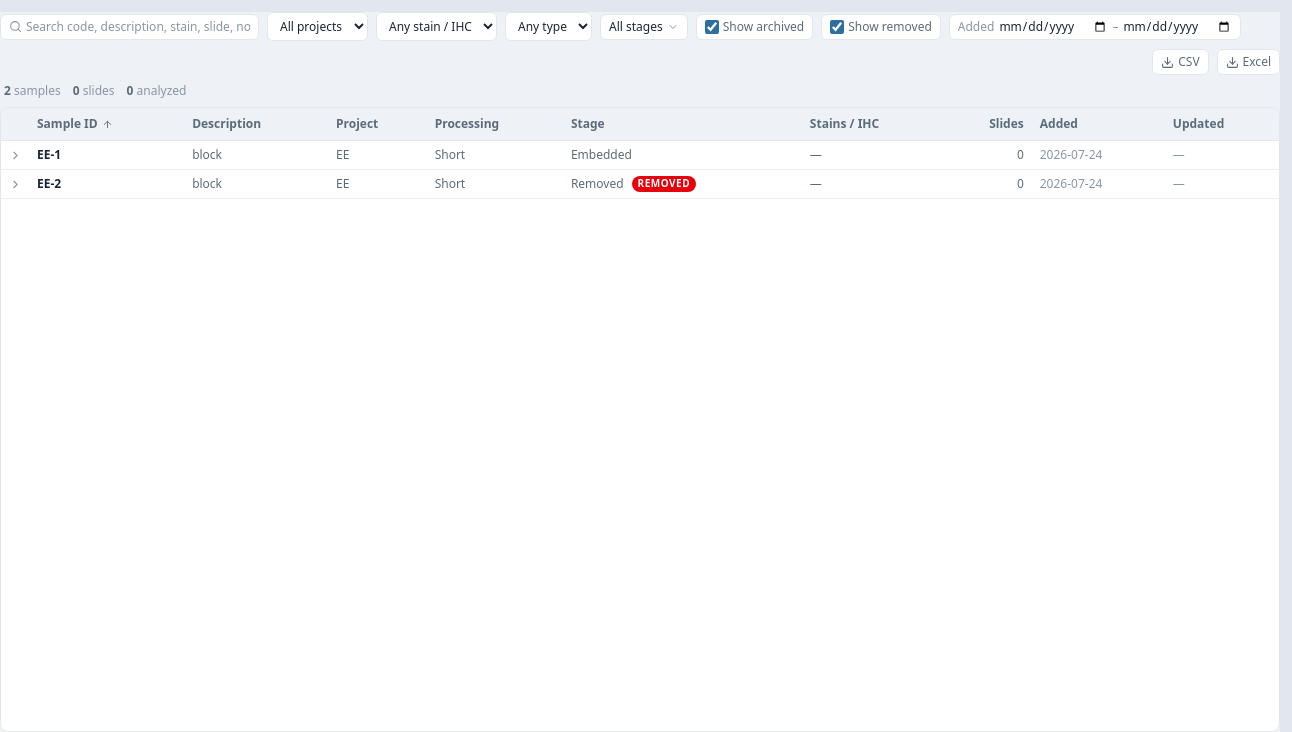
Test: LogsView — removing a sample › lists a removed sample under Show removed and hides it without
Expected: the text "EE-2" is shown, [37,176,61,192]
Step 1. Click the checkbox labelled "Show removed" → (837, 26), box [830,20,844,34]
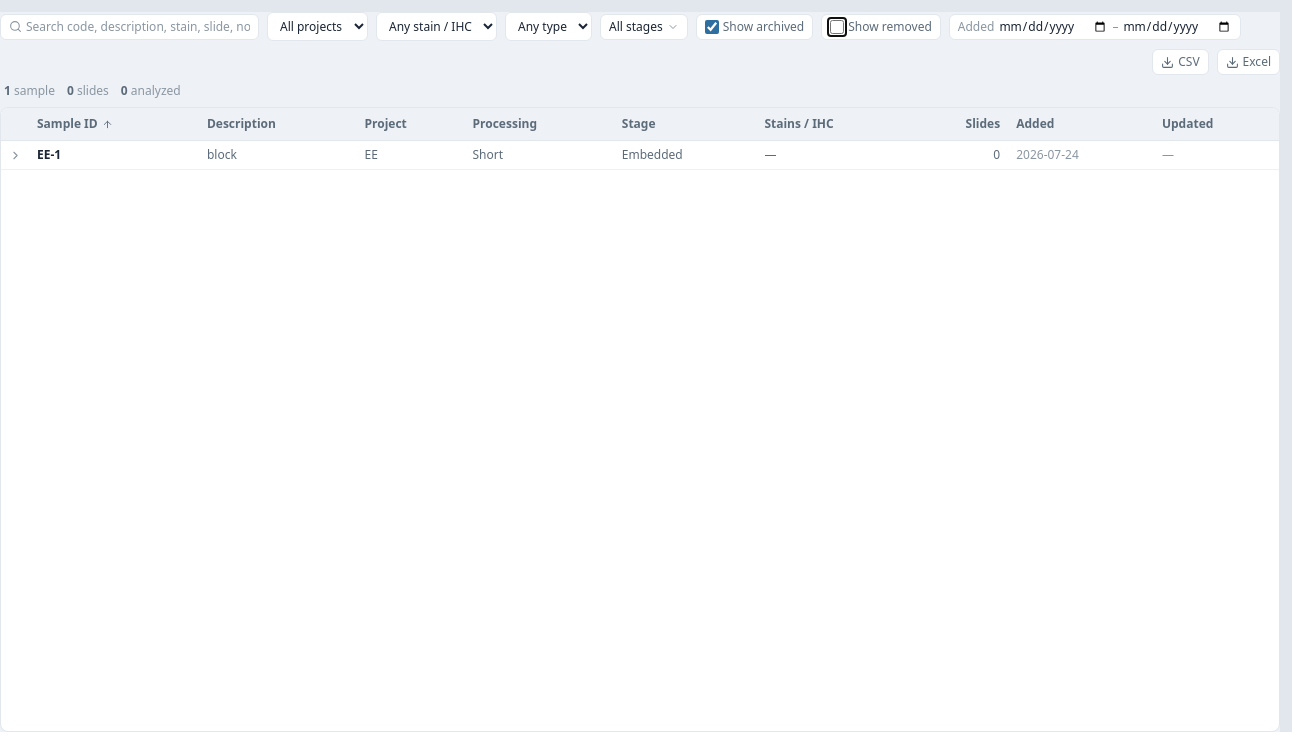
Expected: the text "EE-1" is shown, [37,147,61,163]
Expected: the text "EE-2" is gone
Step 2. Click the checkbox labelled "Show removed" → (837, 26), box [830,20,844,34]
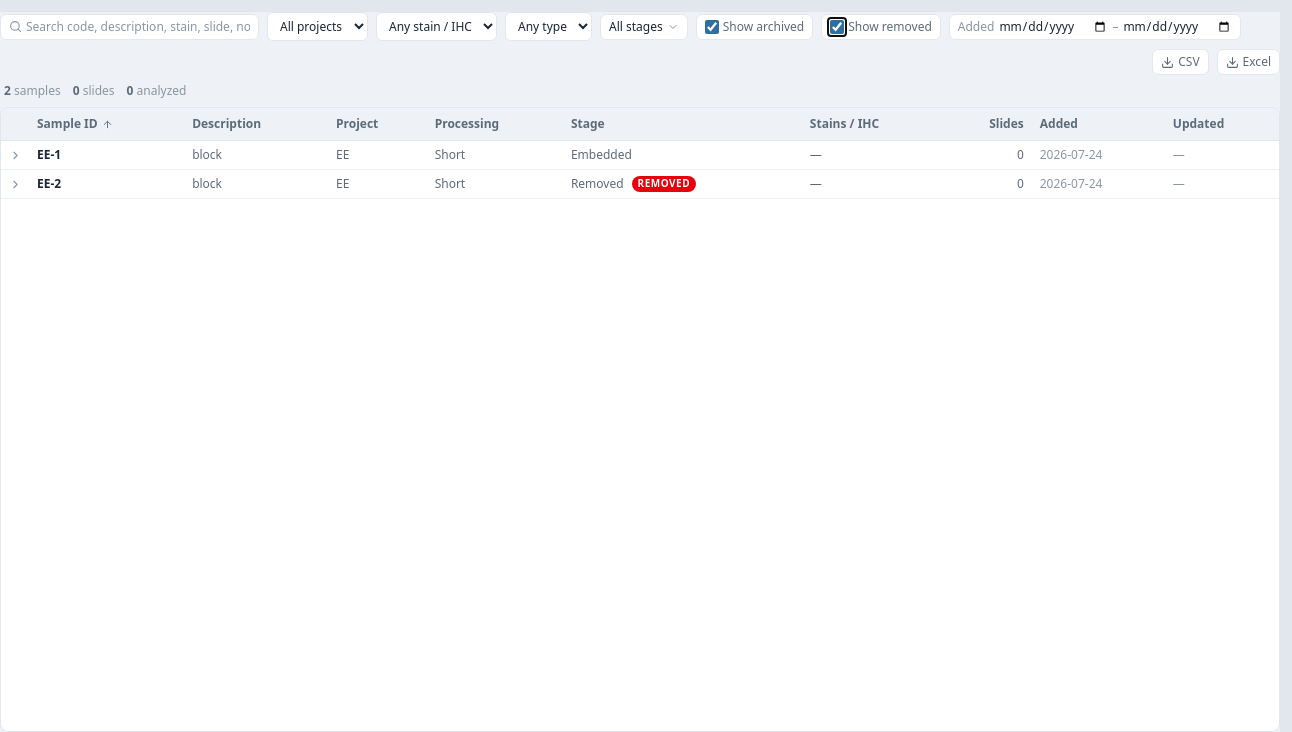
Expected: the text "EE-2" is shown, [37,176,61,192]
